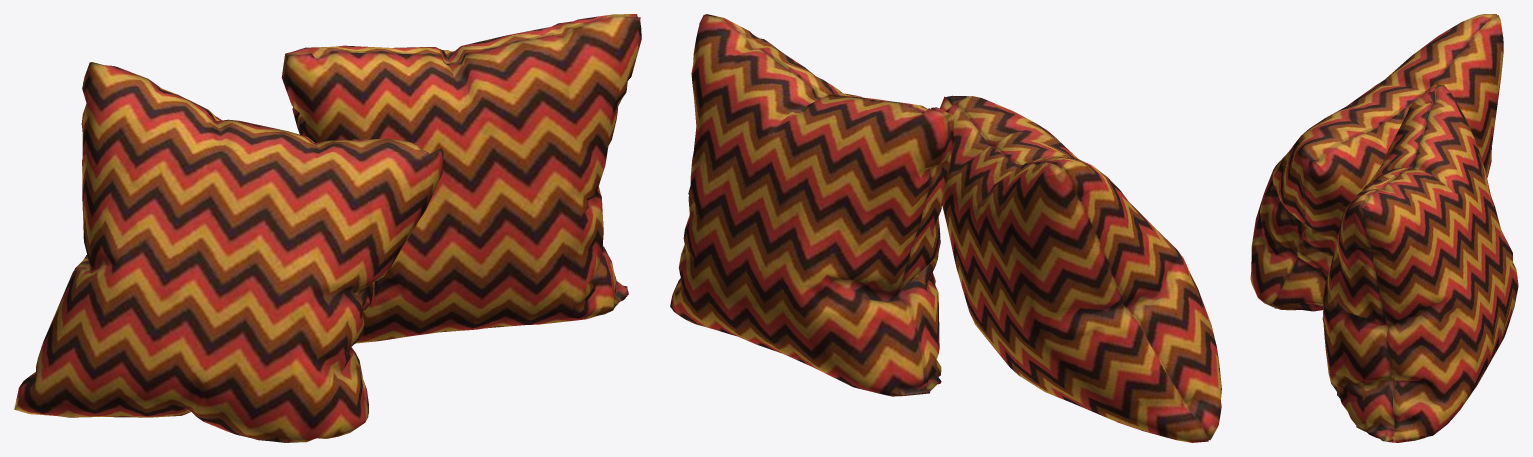
File: throw_pillows_01.glb
The picture shows the model from 3 angles, left to right: view 1: azimuth 30°, elevation 25°; view 2: azimuth 150°, elevation 25°; view 3: azimuth 270°, elevation 25°; orthographic projection. The views are drawn at different scales.
Visible parts, largest first — view 1: throw_pillows_01_pillow01, throw_pillows_01_pillow02; view 2: throw_pillows_01_pillow02, throw_pillows_01_pillow01; view 3: throw_pillows_01_pillow02, throw_pillows_01_pillow01.
Boxes of the visible parts, <box> form: throw_pillows_01_pillow01: <box>14,62,443,442</box>; throw_pillows_01_pillow02: <box>281,14,641,343</box>; throw_pillows_01_pillow02: <box>670,14,953,396</box>; throw_pillows_01_pillow01: <box>940,95,1221,442</box>; throw_pillows_01_pillow02: <box>1322,84,1518,442</box>; throw_pillows_01_pillow01: <box>1250,14,1503,311</box>.
Bounding box in the file's own units: 0.9401 × 0.4501 × 0.4519.
Materials: 1 (1 with a texture image).
